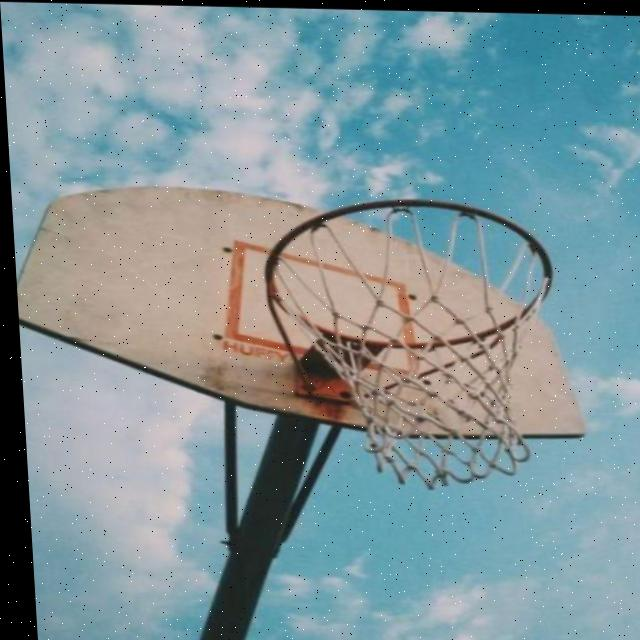hoop: (219, 192, 598, 498)
